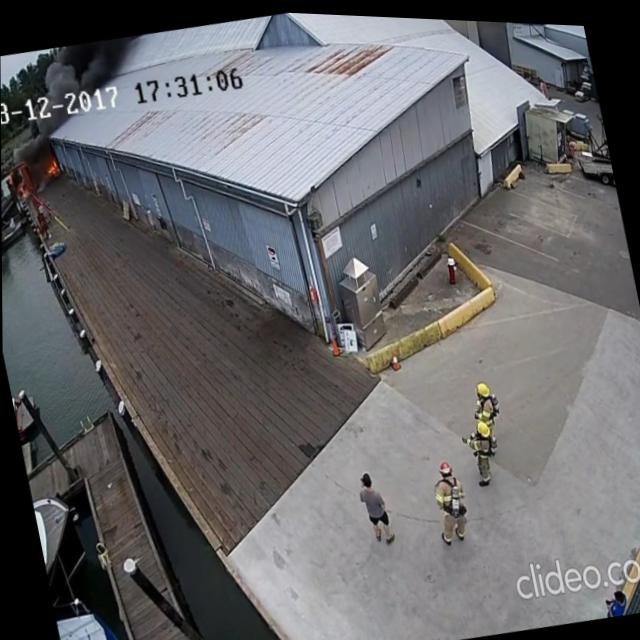fire: (43, 154, 63, 177)
